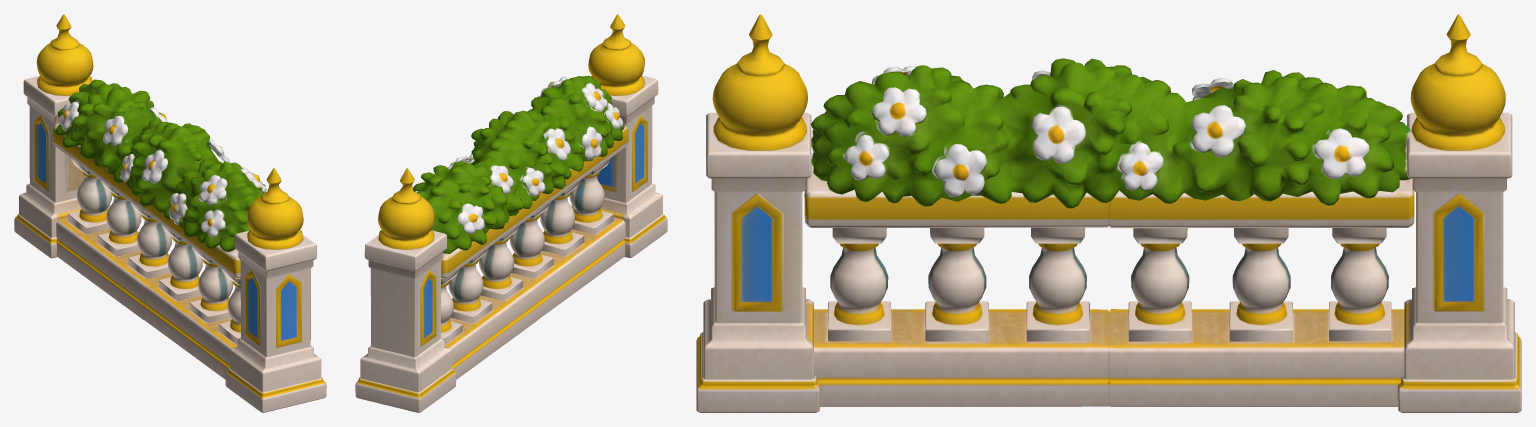
File: HaloVar3_Balustrade_F_SM_tex4k_pbr_src.fbx
The picture shows the model from 3 angles, left to right: view 1: azimuth 30°, elevation 25°; view 2: azimuth 150°, elevation 25°; view 3: azimuth 270°, elevation 25°; orthographic projection. The views are drawn at different scales.
Visible parts, largest first — view 1: b9211e1c_e7ac_43f3_a1cc_96e768dae22b; view 2: b9211e1c_e7ac_43f3_a1cc_96e768dae22b; view 3: b9211e1c_e7ac_43f3_a1cc_96e768dae22b.
Boxes of the visible parts, x1,y1,x2,y2 form: b9211e1c_e7ac_43f3_a1cc_96e768dae22b: [14, 14, 326, 412]; b9211e1c_e7ac_43f3_a1cc_96e768dae22b: [355, 14, 667, 412]; b9211e1c_e7ac_43f3_a1cc_96e768dae22b: [696, 14, 1521, 412].
Size of the model in its own units: 0.2026 by 0.4976 by 0.9995.
Materials: 1 (1 with a texture image).
